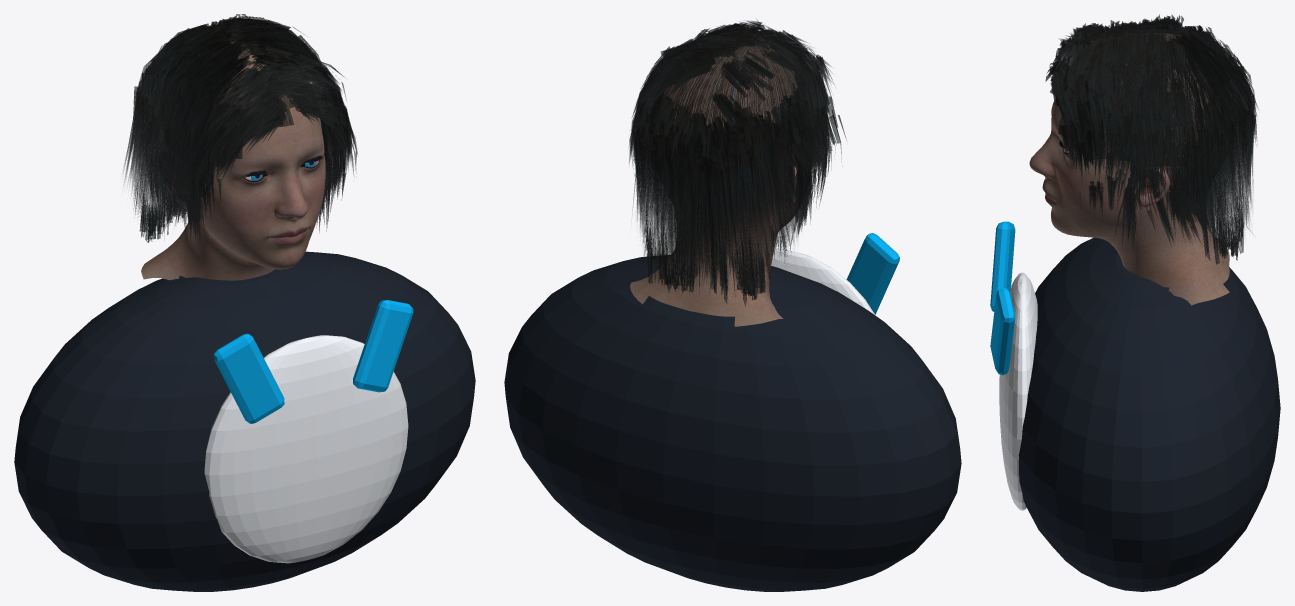
The model's file is Skylet-FACS.glb.
The picture shows the model from 3 angles, left to right: view 1: azimuth 30°, elevation 25°; view 2: azimuth 150°, elevation 25°; view 3: azimuth 270°, elevation 25°; orthographic projection. The views are drawn at different scales.
Visible parts, largest first — view 1: Skylet_Jacket_Bust, Skylet_White_Top, Skylet_Bob_Hair, Skylet_Face, Skylet_Collar_L, Skylet_Collar_R; view 2: Skylet_Jacket_Bust, Skylet_Bob_Hair, Skylet_Face, Skylet_Collar_L, Skylet_White_Top; view 3: Skylet_Jacket_Bust, Skylet_Bob_Hair, Skylet_Face, Skylet_White_Top, Skylet_Collar_R, Skylet_Collar_L.
Boxes of the visible parts, x1,y1,x2,y2 form: Skylet_Jacket_Bust: (14,251,475,591); Skylet_White_Top: (204,335,408,563); Skylet_Bob_Hair: (124,14,357,242); Skylet_Face: (141,42,325,280); Skylet_Collar_L: (214,333,284,423); Skylet_Collar_R: (353,300,413,392); Skylet_Jacket_Bust: (504,255,961,591); Skylet_Bob_Hair: (629,20,846,306); Skylet_Face: (630,45,811,326); Skylet_Collar_L: (846,233,899,314); Skylet_White_Top: (771,248,875,315); Skylet_Jacket_Bust: (1018,237,1280,591); Skylet_Bob_Hair: (1045,14,1258,264); Skylet_Face: (1029,33,1229,305); Skylet_White_Top: (999,272,1037,510); Skylet_Collar_R: (990,288,1015,375); Skylet_Collar_L: (990,221,1015,311).
Size of the model in its own units: 0.54 by 0.6363 by 0.3146.
Materials: 9 (2 with a texture image).
